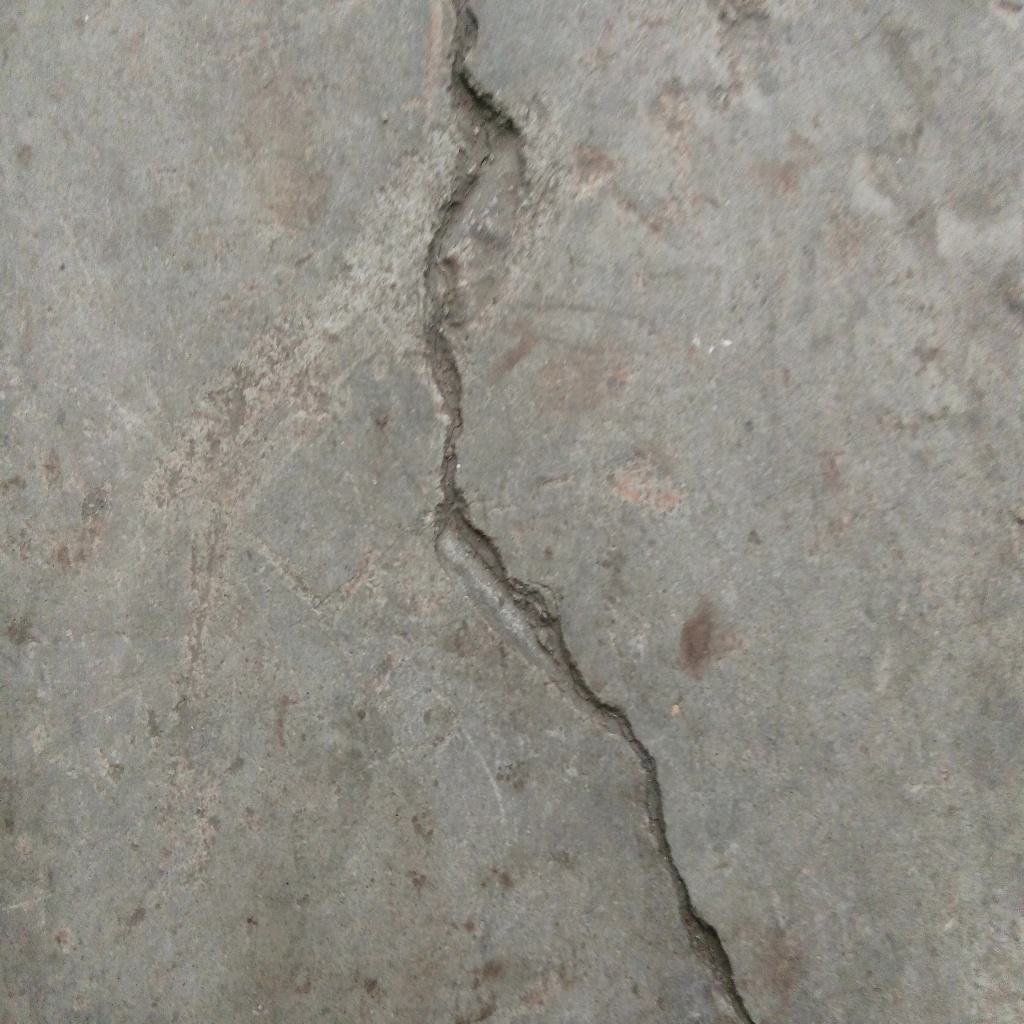Crack: (419, 1, 756, 1024)
